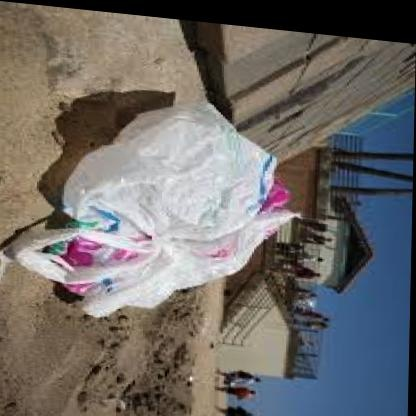trash: (11, 102, 294, 316)
